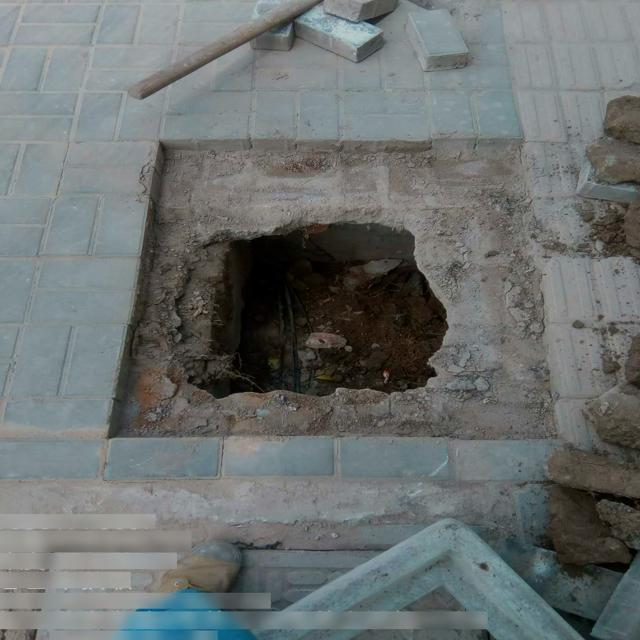lose: (107, 136, 562, 437)
